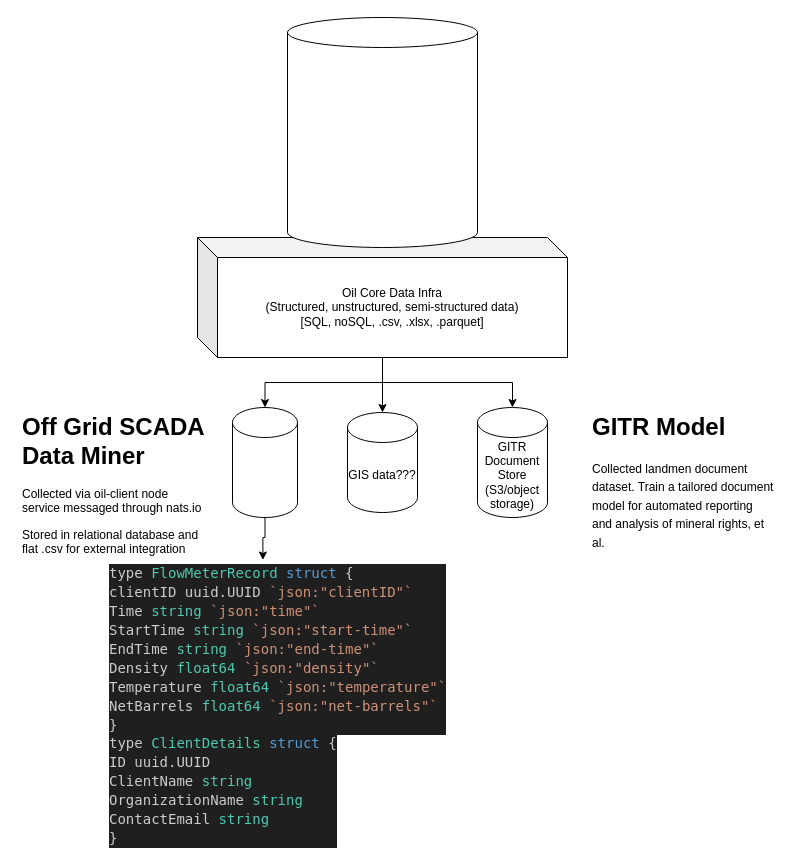
Image size: 794x866. Some labels were removed from this diagram. Here are the shapes that lost their labels. From the top down, the centre of each, then its label:
At [382,132]: "Core Services (internal/external) [client interface, analytics, sandbox/labs]".
At [265,462]: "MBLDW (RDBMS Postgres)".
